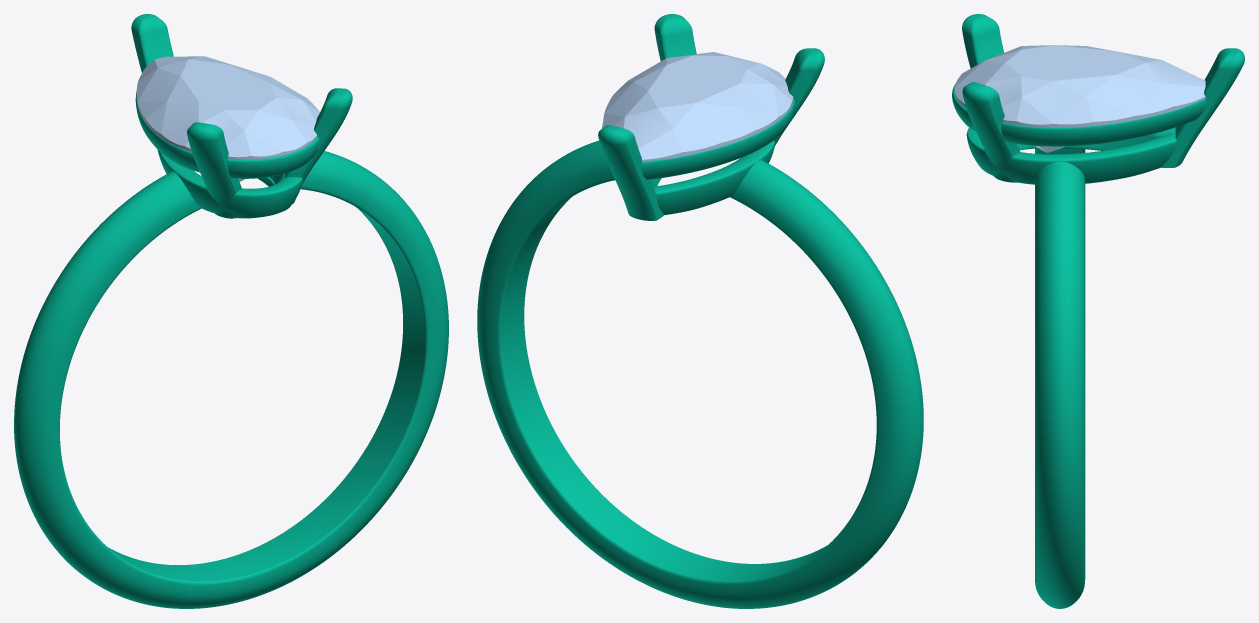
The picture shows the model from 3 angles, left to right: view 1: azimuth 30°, elevation 25°; view 2: azimuth 150°, elevation 25°; view 3: azimuth 270°, elevation 25°; orthographic projection. The views are drawn at different scales.
Visible parts, largest first — view 1: 2.3dm, Diamond_Pear; view 2: 2.3dm, Diamond_Pear; view 3: 2.3dm, Diamond_Pear.
Part boxes in pixels (box(x1,y1,x2,y2)): 2.3dm: box(14, 14, 448, 608); Diamond_Pear: box(136, 56, 319, 181); 2.3dm: box(477, 14, 923, 608); Diamond_Pear: box(603, 52, 793, 161); 2.3dm: box(952, 14, 1244, 608); Diamond_Pear: box(954, 45, 1205, 152).
Size of the model in its own units: 2.44 by 2.84 by 1.41.
